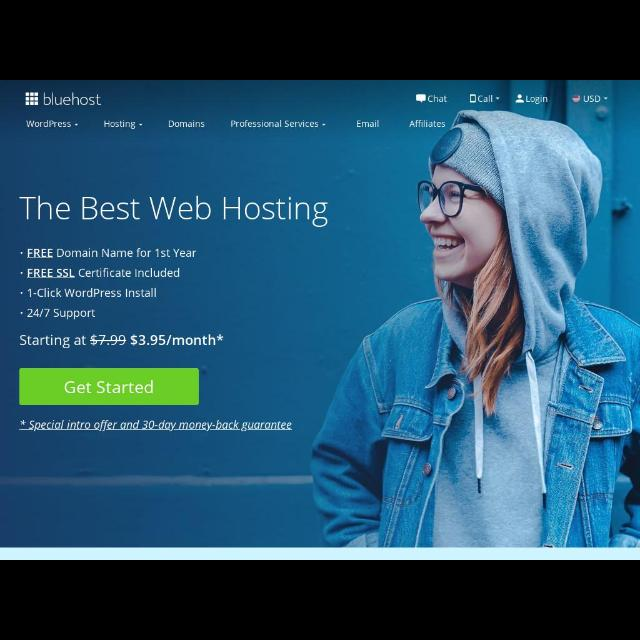backgroundimage: (1, 81, 639, 547)
icon: (416, 94, 426, 102), (516, 95, 524, 103), (470, 95, 476, 103), (140, 122, 144, 128), (604, 97, 608, 99), (496, 97, 500, 99), (322, 124, 326, 126), (76, 124, 78, 126)
image: (26, 92, 102, 106), (572, 95, 580, 102)
spinner: (228, 119, 328, 131), (26, 118, 80, 128), (103, 120, 145, 130), (583, 95, 609, 103), (478, 95, 500, 103)
text: (20, 249, 198, 319), (19, 195, 328, 227), (19, 420, 292, 432), (19, 332, 223, 348), (231, 120, 319, 128), (26, 120, 70, 128), (169, 120, 205, 128), (409, 120, 445, 128), (104, 121, 136, 129), (356, 120, 379, 128), (526, 96, 548, 104), (428, 95, 447, 103), (478, 95, 494, 102), (584, 96, 600, 102)
textbutton: (20, 368, 198, 404)
